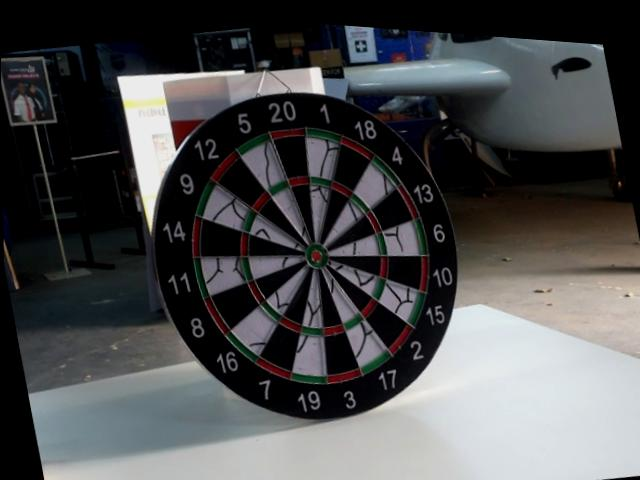single_1: (307, 133, 333, 177)
